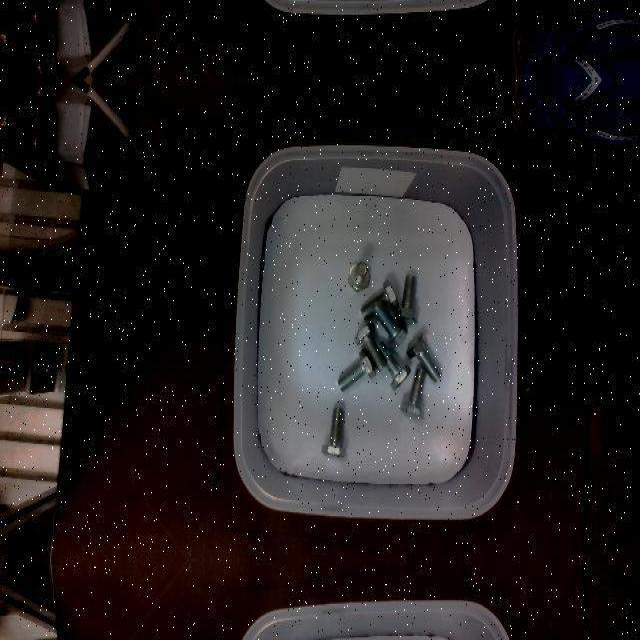screw: (405, 333, 442, 383), (373, 299, 408, 349), (337, 348, 376, 392), (354, 321, 387, 371), (400, 368, 426, 420), (394, 275, 418, 325), (321, 405, 345, 455), (348, 261, 371, 291)
